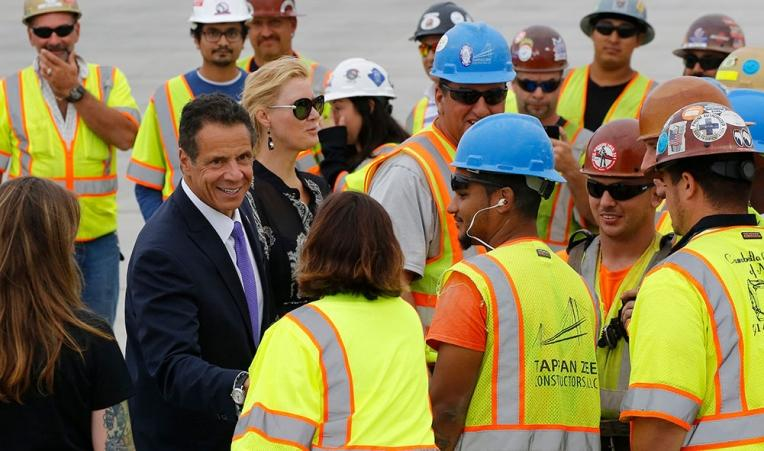helmet: (451, 110, 568, 187), (651, 102, 761, 170), (638, 73, 728, 149), (432, 23, 518, 85), (579, 119, 655, 182), (322, 59, 398, 106), (672, 14, 747, 60), (579, 1, 658, 43), (510, 26, 571, 75), (717, 43, 764, 96), (408, 4, 472, 42), (21, 1, 83, 27), (189, 1, 254, 24), (251, 1, 306, 21)
